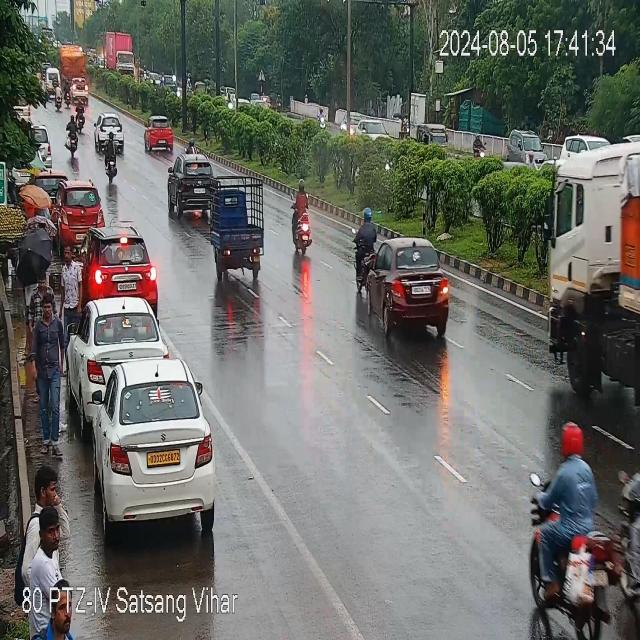2-wheelers: (534, 432, 616, 632), (613, 436, 640, 600), (345, 206, 384, 286), (288, 180, 316, 256), (104, 131, 118, 184), (65, 115, 80, 161), (75, 98, 86, 131)
auto: (205, 177, 265, 279), (414, 119, 450, 159)
car: (92, 357, 218, 530), (71, 296, 161, 407), (368, 239, 454, 339), (83, 231, 160, 312), (164, 152, 216, 222), (50, 179, 100, 239), (507, 129, 547, 167), (350, 110, 388, 144), (144, 116, 175, 152), (94, 112, 124, 145), (69, 77, 91, 99)
pedestrian: (19, 469, 72, 603), (34, 287, 71, 448), (59, 244, 84, 327)
truck: (549, 132, 638, 358), (104, 30, 136, 80), (59, 44, 88, 77)
